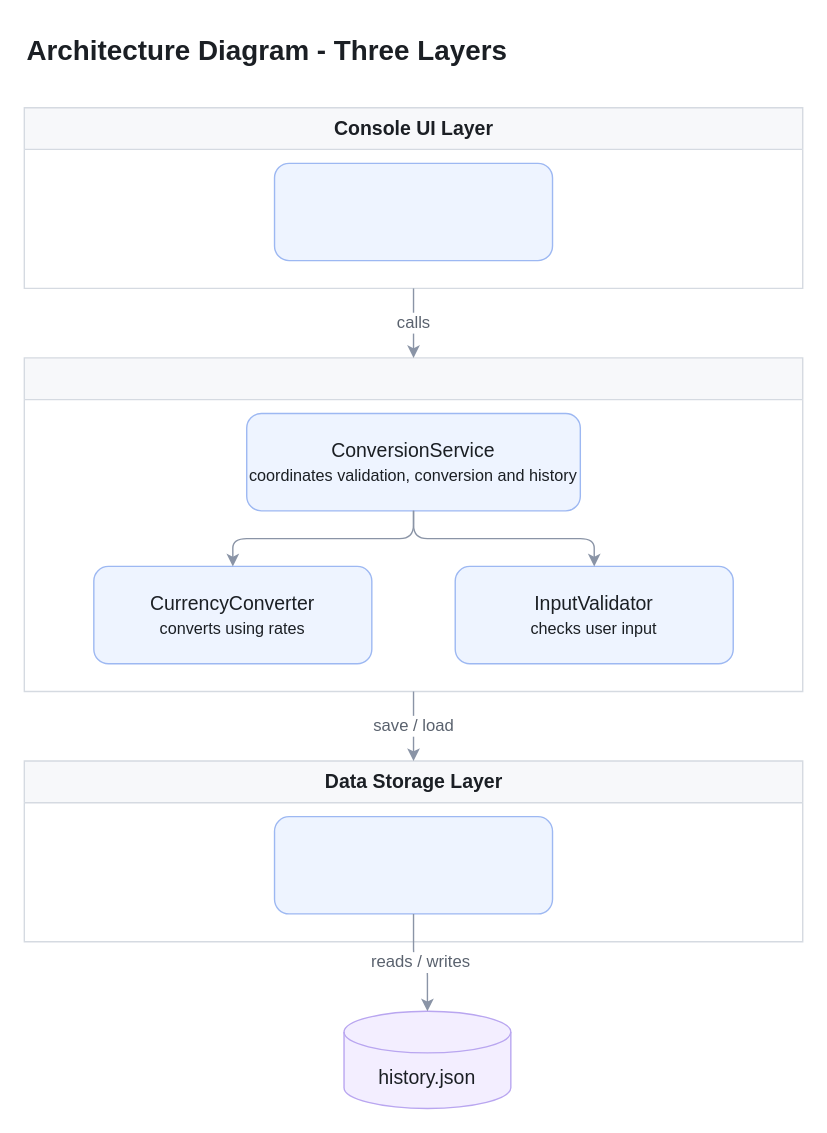
This 827x1133 diagram has some shape labels left out. Each missing label, with the box of its shape:
Business Logic Layer: (23, 357, 803, 692)
JsonStorage SaveRecord, LoadHistory, ClearHistory: (273, 815, 553, 914)
Program.cs menu, input and output: (273, 162, 553, 261)
